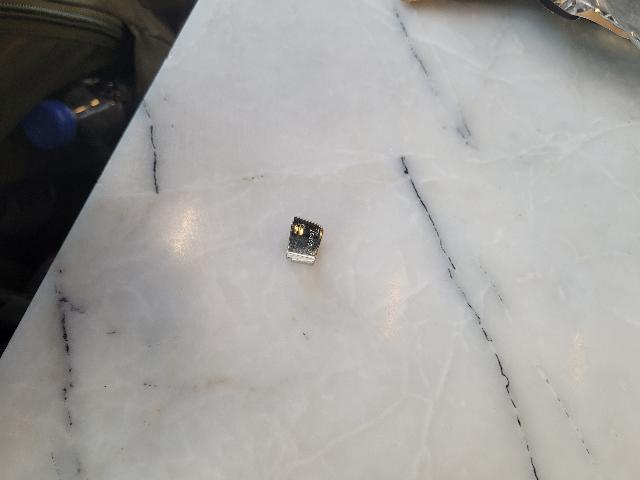Metal: (283, 203, 340, 278)
